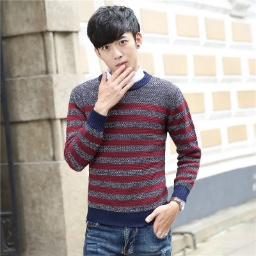face: (89, 5, 143, 76)
